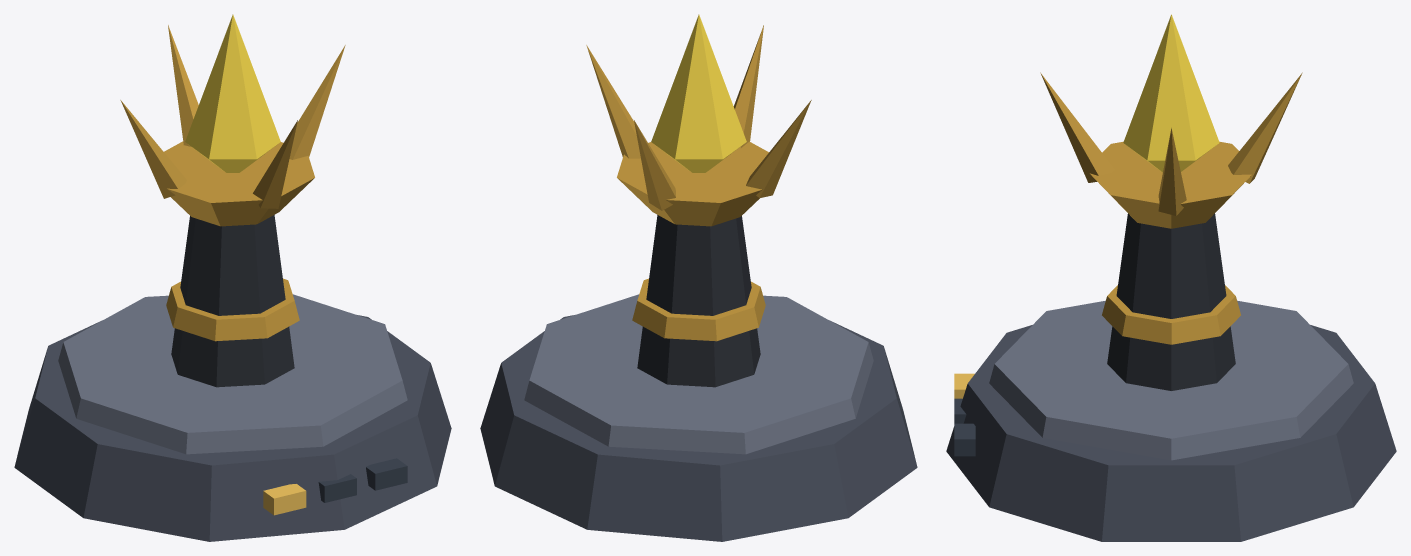
File: storm-spire-0.glb
3 renders of one model, left to right at view 1: azimuth 30°, elevation 25°; view 2: azimuth 150°, elevation 25°; view 3: azimuth 270°, elevation 25°, orthographic.
Parts seen in each view (by area): view 1: storm-spire-0; view 2: storm-spire-0; view 3: storm-spire-0.
Part boxes in pixels (bbox=[...]): storm-spire-0: bbox=[14, 14, 451, 541]; storm-spire-0: bbox=[480, 14, 917, 541]; storm-spire-0: bbox=[946, 14, 1396, 541].
Bounding box in the file's own units: 0.7989 × 0.9 × 0.84.
1 material, 1 textured.
